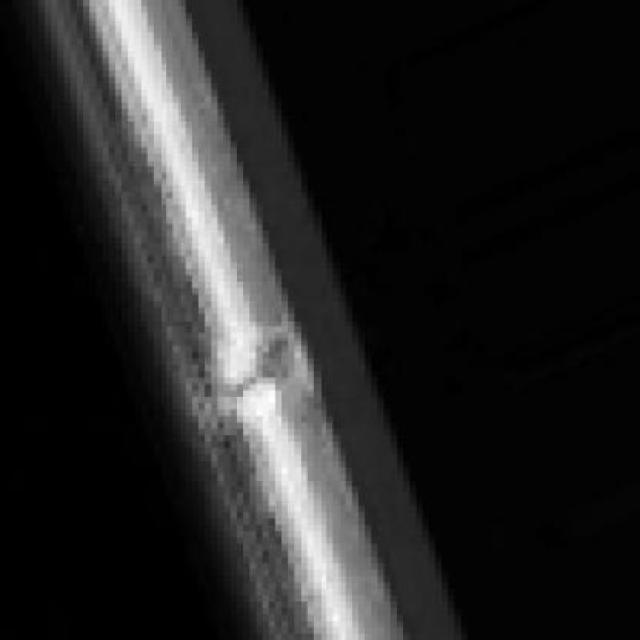non-defective: (5, 0, 492, 640)
